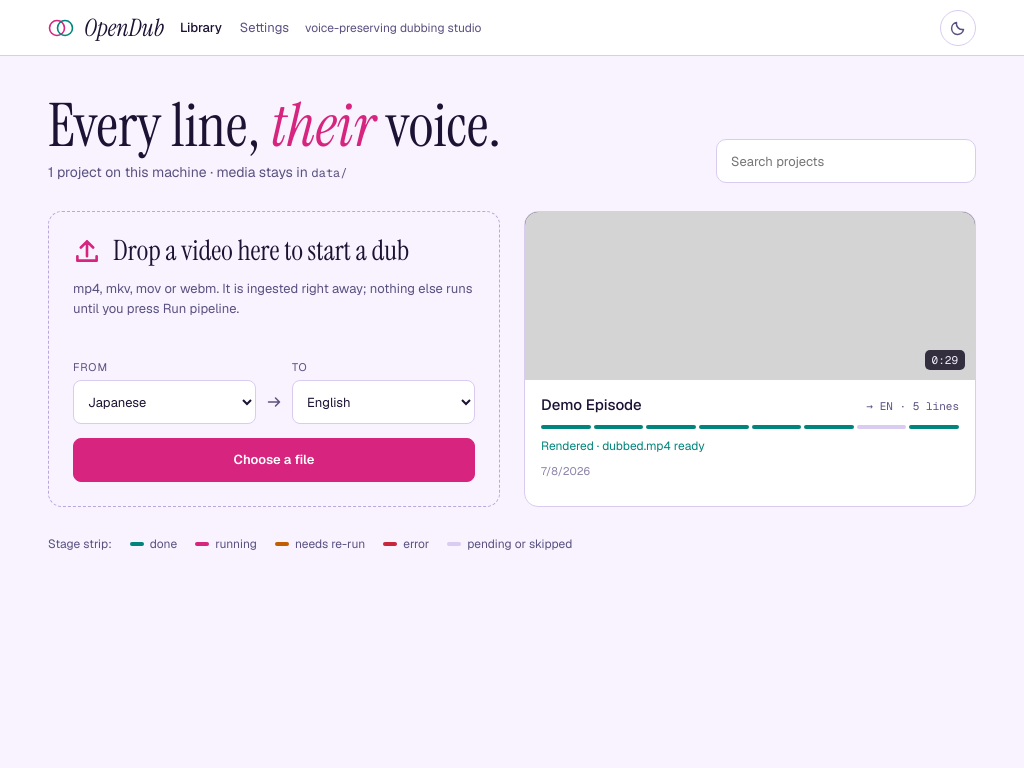
Test: App — renders the page as intended › cancelling the delete dialog stays in the library
This screenshot has width=1024, height=768.
Hover over the text "Demo Episode" at (591, 405), box [541,394,642,416]
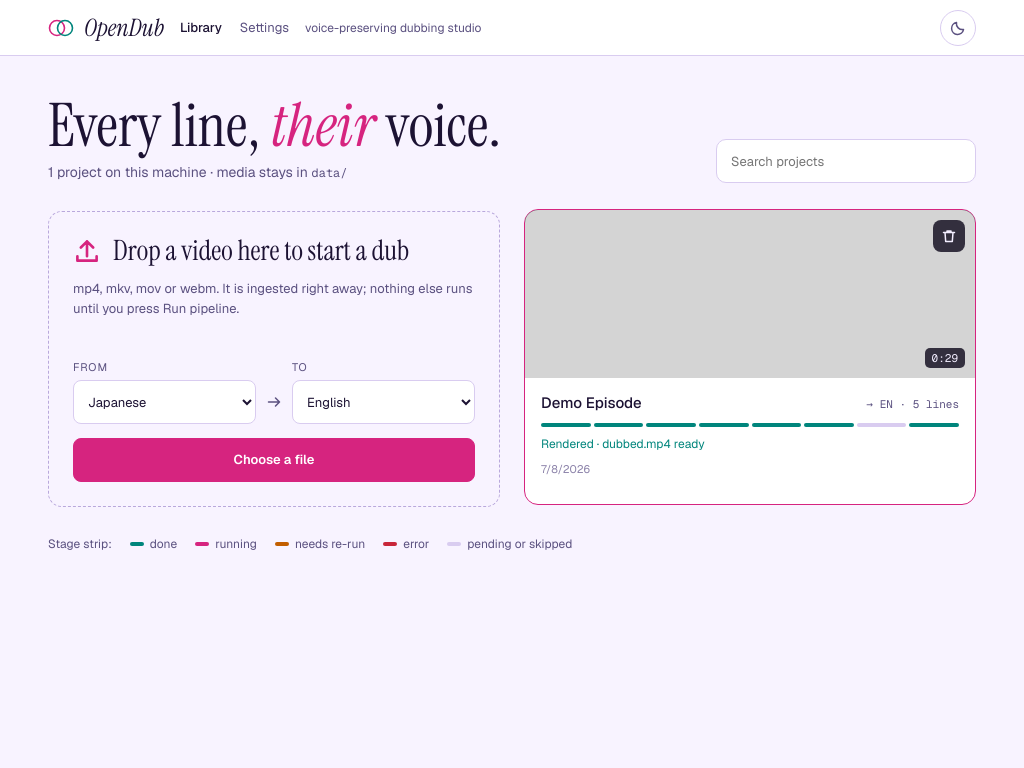
Click the button titled "Delete project". click: click(949, 236)
box: [933,220,965,252]
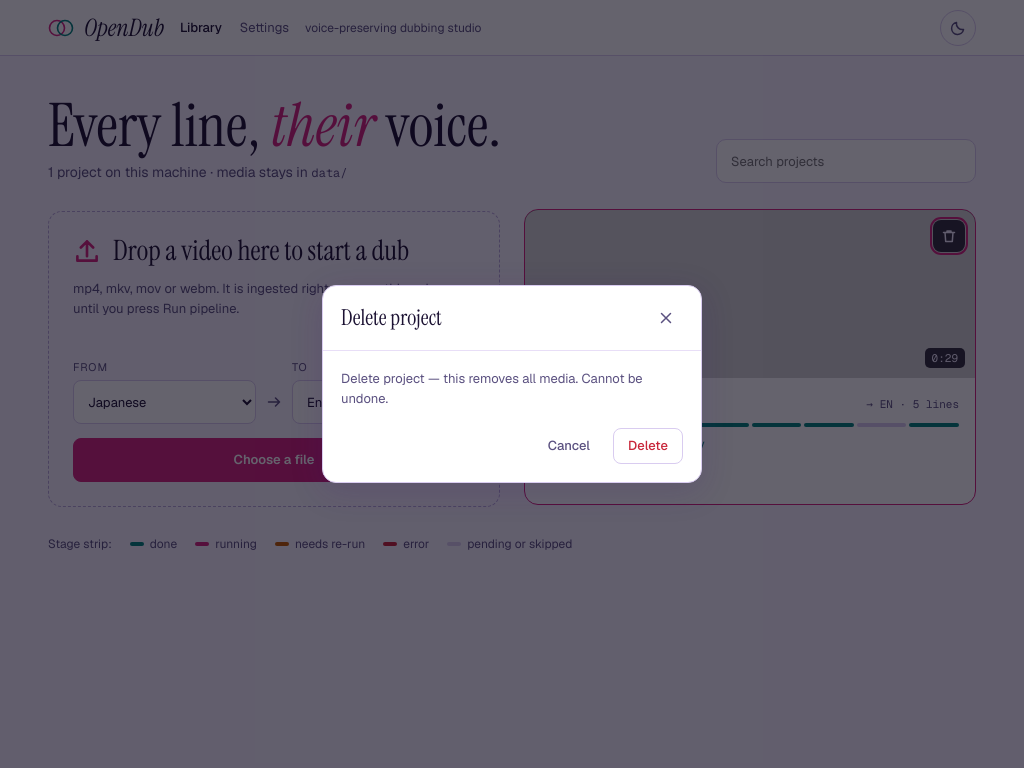
Expected: the text "Delete project — this removes all media. Cannot be undone." is shown, [341,369,683,408]
Click the button "Cancel". click: click(569, 446)
box: [533,428,605,464]
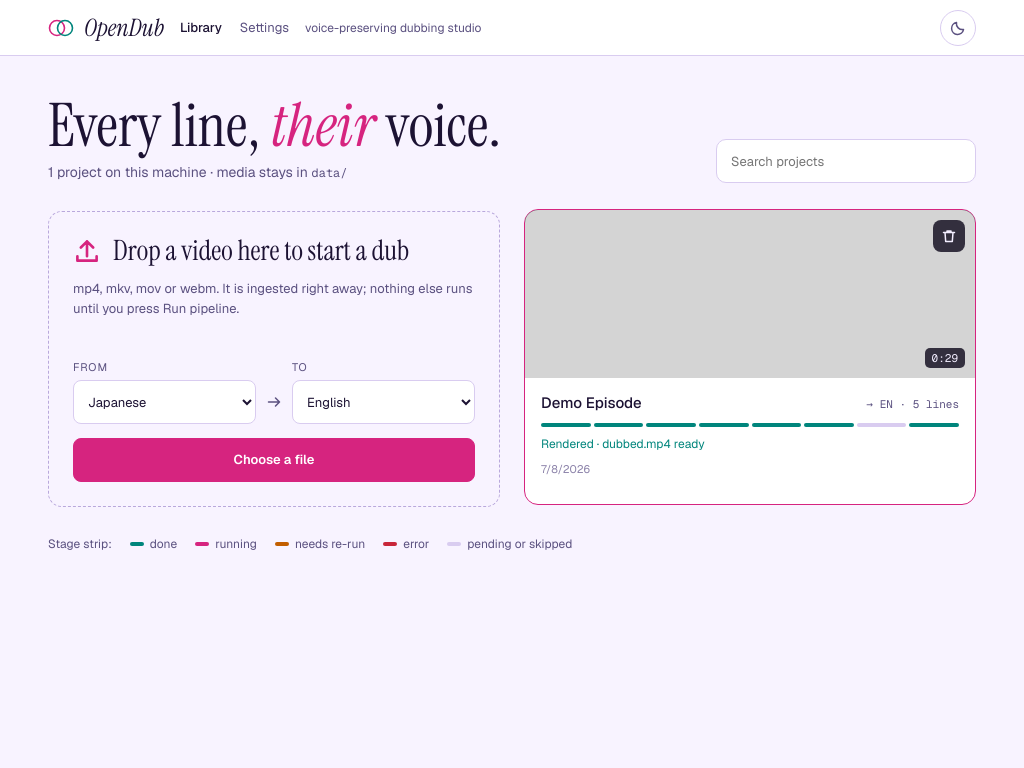
Expected: the text "Cannot be undone" is gone
